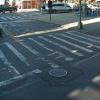Crosswalk: (8, 31, 95, 77)
